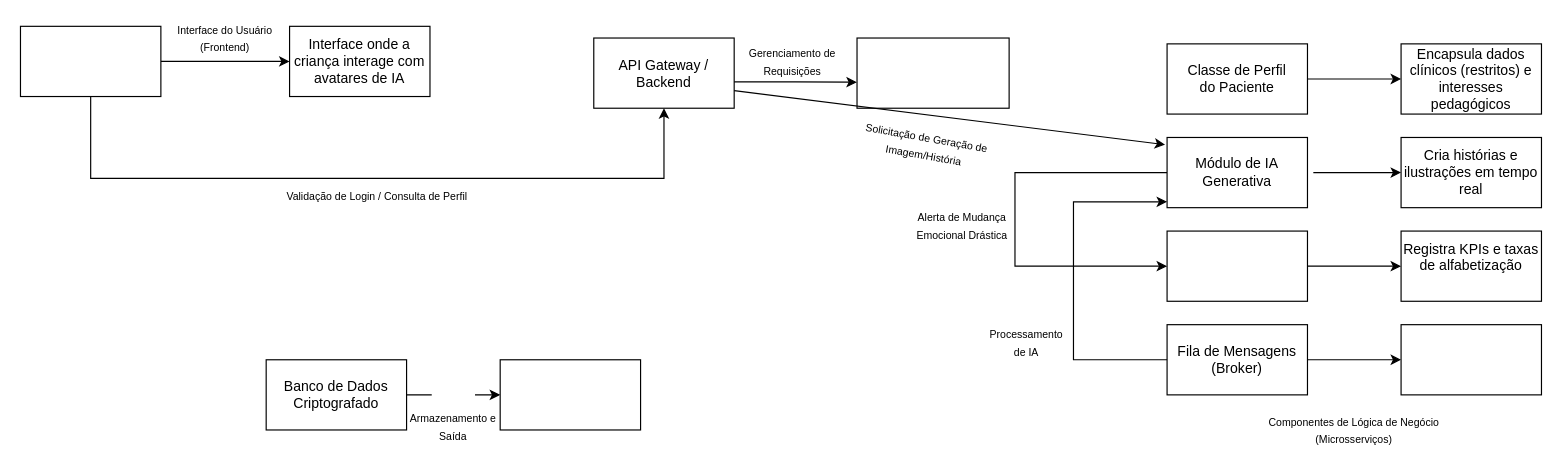
This 1562x467 diagram has some shape labels left out. The centre of each missing label's shape, as x and y in pixels:
"Armazena dados anonimizados respeitando a LGPD e o ECA" goes at (x=570, y=394).
"Gerencia requisições assíncronas para a IA" goes at (x=1470, y=359).
"Módulo de Acolhimento Lúdico" goes at (x=90, y=61).
"Recebe as solicitações da interface e direciona para os serviços corretos" goes at (x=932, y=72).
"Subsistema de Progresso Pedagógico" goes at (x=1236, y=265).
